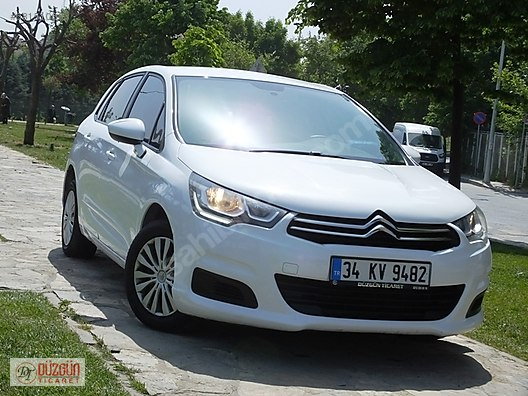citroen: (58, 58, 495, 354)
